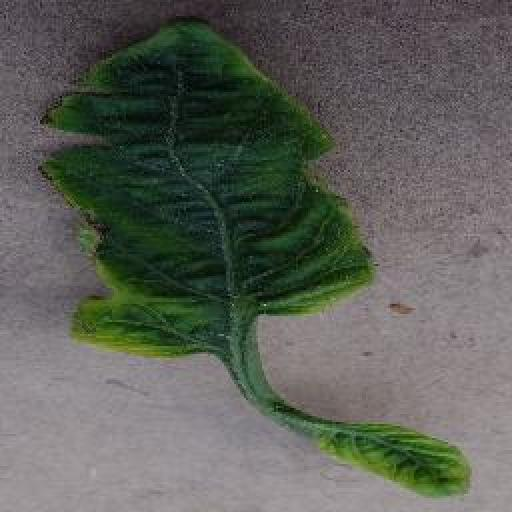disease_tomato: (37, 17, 376, 363), (316, 416, 472, 500)
